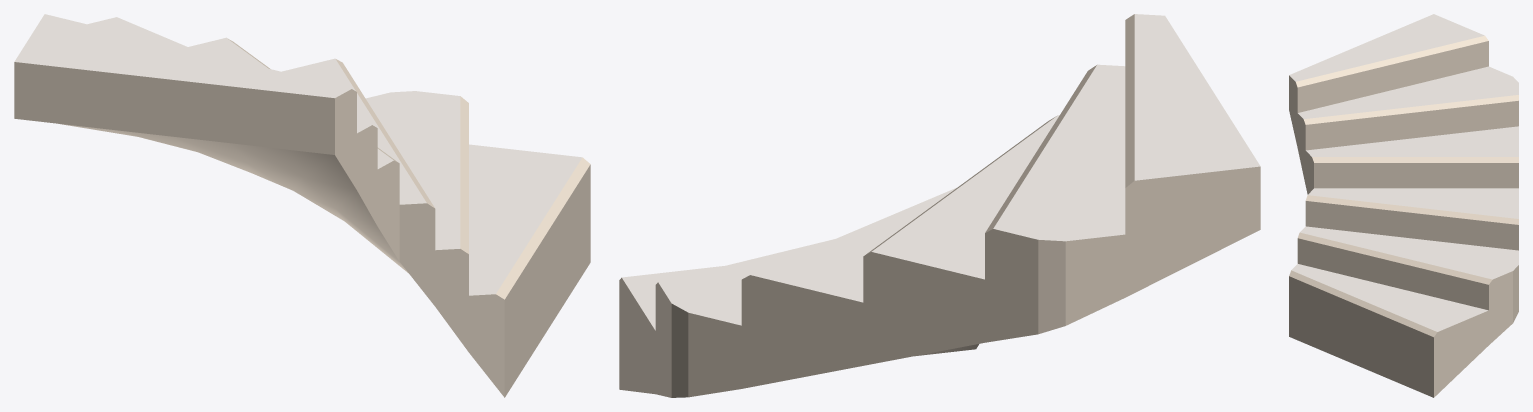
3 renders of one model, left to right at view 1: azimuth 30°, elevation 25°; view 2: azimuth 150°, elevation 25°; view 3: azimuth 270°, elevation 25°, orthographic. The views are drawn at different scales.
Parts seen in each view (by area): view 1: object1.003; view 2: object1.003; view 3: object1.003.
Part boxes in pixels (x1,y1,x2,y2): object1.003: [14, 14, 590, 397]; object1.003: [619, 14, 1260, 397]; object1.003: [1289, 14, 1518, 397].
Size of the model in its own units: 2.12 by 1.2 by 1.19.
